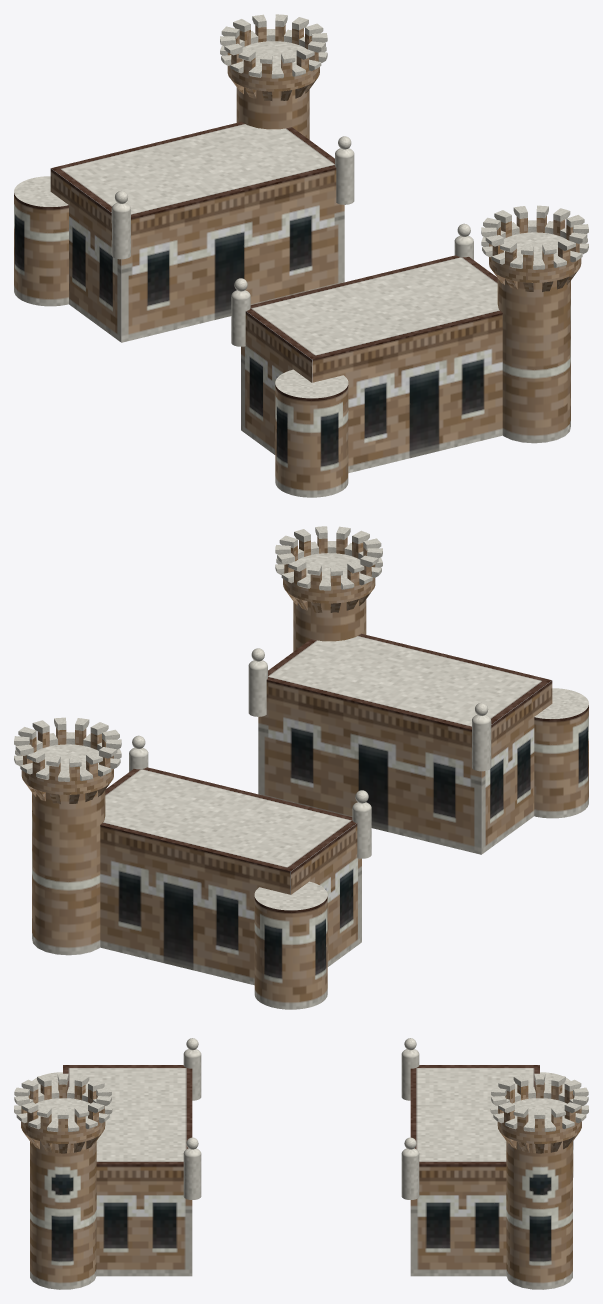
The model's file is SANDSTGATE.glb.
3 renders of one model, top to bottom at view 1: azimuth 30°, elevation 25°; view 2: azimuth 150°, elevation 25°; view 3: azimuth 270°, elevation 25°, orthographic. The views are drawn at different scales.
Parts seen in each view (by area): view 1: SANDSTGATE; view 2: SANDSTGATE; view 3: SANDSTGATE.
Part boxes in pixels (left/top/right/bottom): SANDSTGATE: left=14, top=14, right=588, bottom=497; SANDSTGATE: left=14, top=526, right=588, bottom=1009; SANDSTGATE: left=14, top=1038, right=588, bottom=1289.
Size of the model in its own units: 54.04 by 34.15 by 97.81.
1 material, 1 textured.
